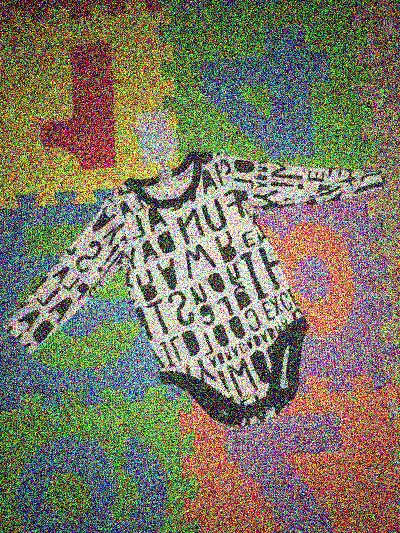Body: (4, 119, 396, 429)
